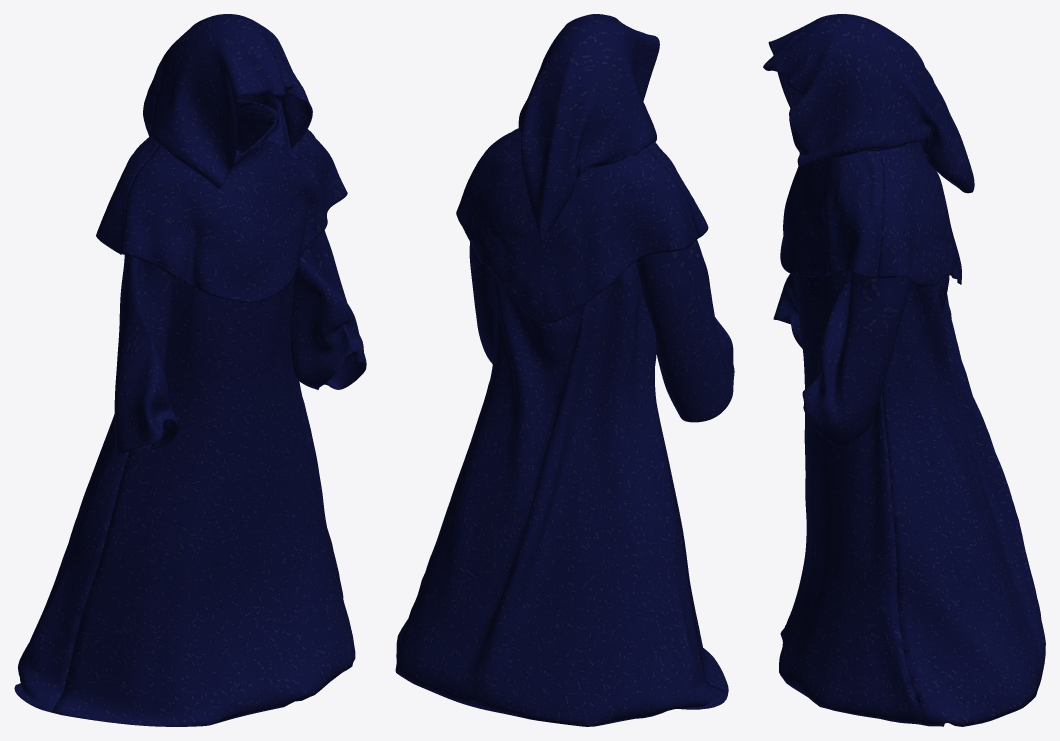
The model's file is mantle.gltf.
3 renders of one model, left to right at view 1: azimuth 30°, elevation 25°; view 2: azimuth 150°, elevation 25°; view 3: azimuth 270°, elevation 25°, orthographic. The views are drawn at different scales.
Visible parts, largest first — view 1: mantle; view 2: mantle; view 3: mantle.
Boxes of the visible parts, x1,y1,x2,y2 form: mantle: (14,14,366,726); mantle: (395,14,734,726); mantle: (763,14,1045,726).
Size of the model in its own units: 3.15 by 6.13 by 2.44.
Materials: 1 (1 with a texture image).
